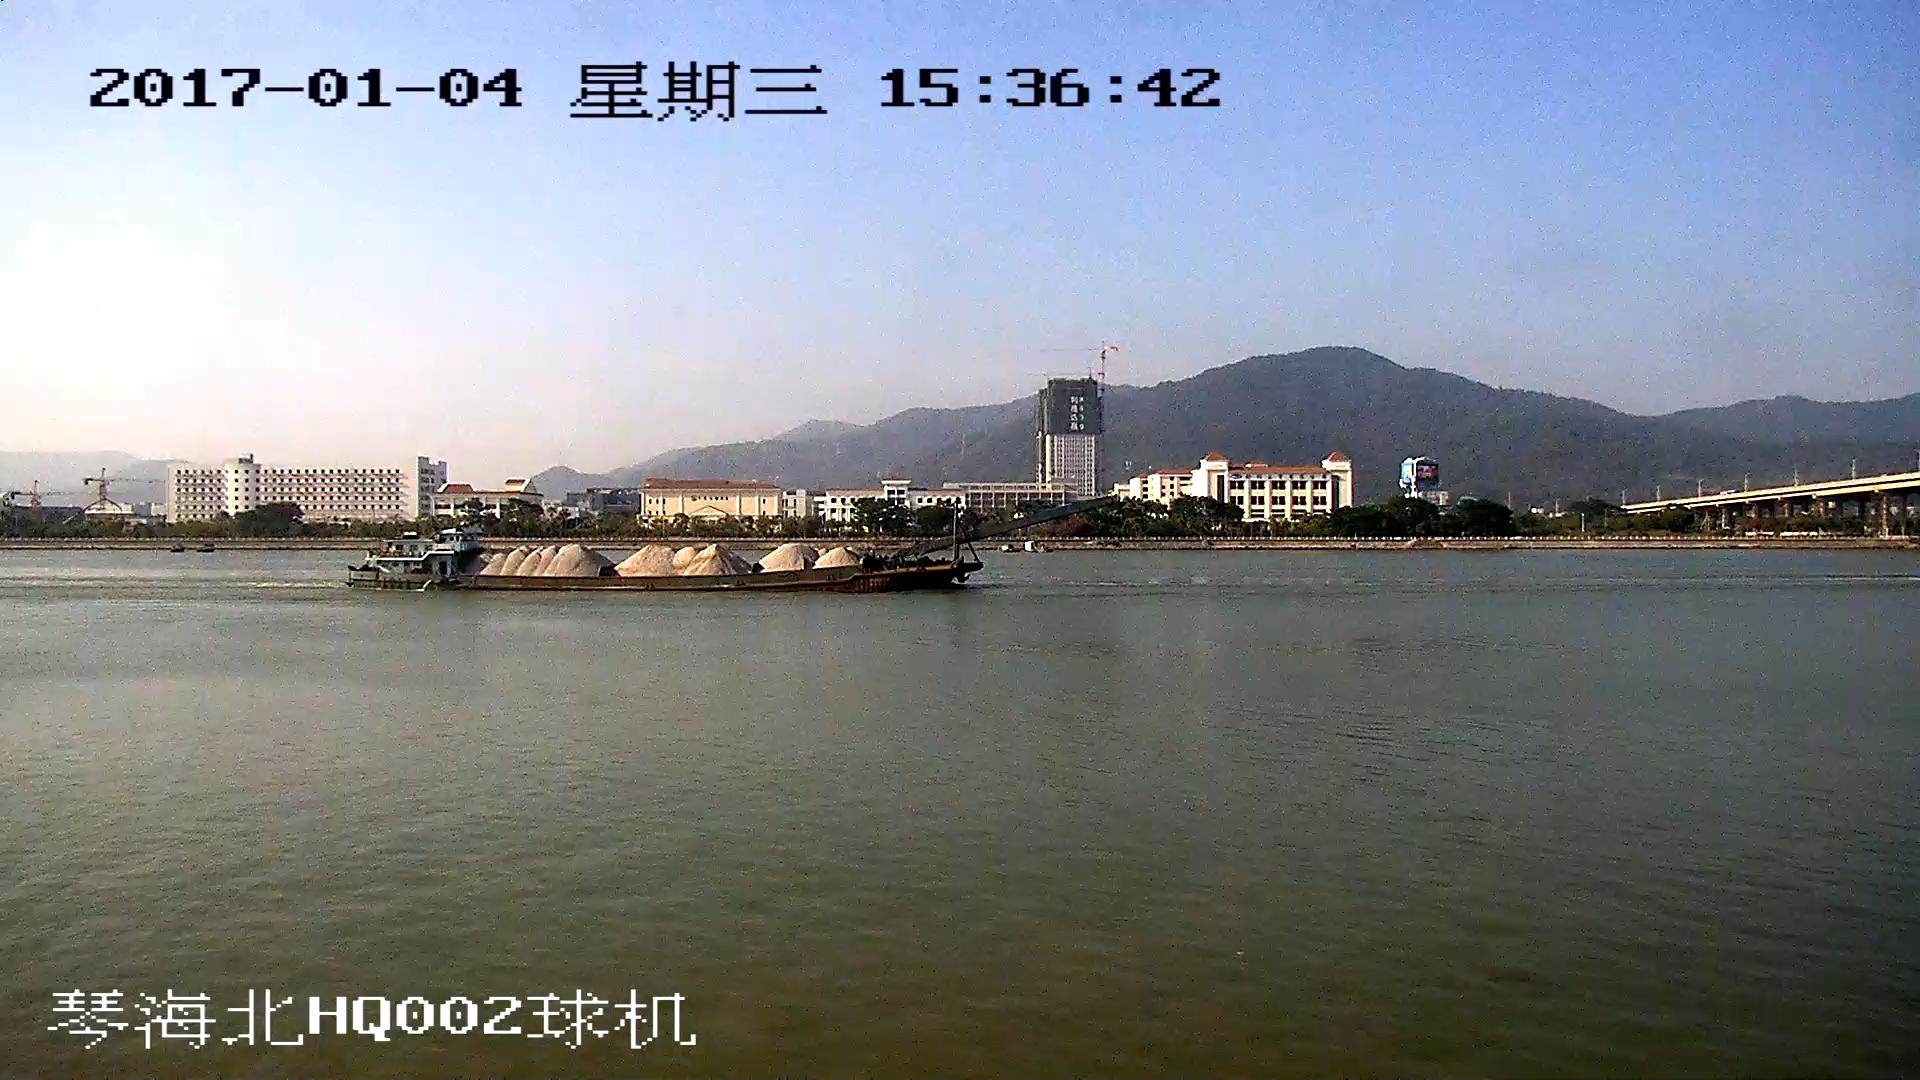ore carrier: (346, 499, 1112, 593)
